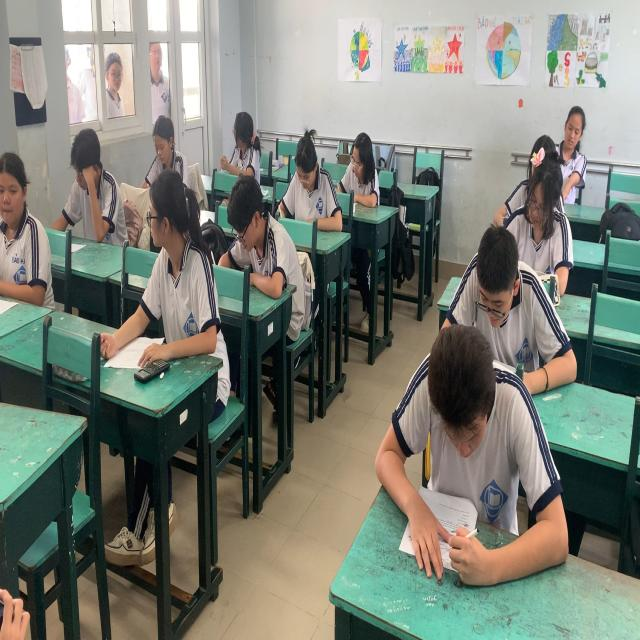cheating: (144, 171, 216, 348), (212, 104, 264, 178)
not_cheating: (374, 337, 574, 572), (455, 230, 552, 378), (0, 125, 52, 309), (276, 129, 346, 240), (221, 174, 284, 295), (60, 126, 126, 240), (523, 146, 573, 282), (334, 130, 385, 212), (560, 92, 586, 208), (142, 122, 182, 178)
